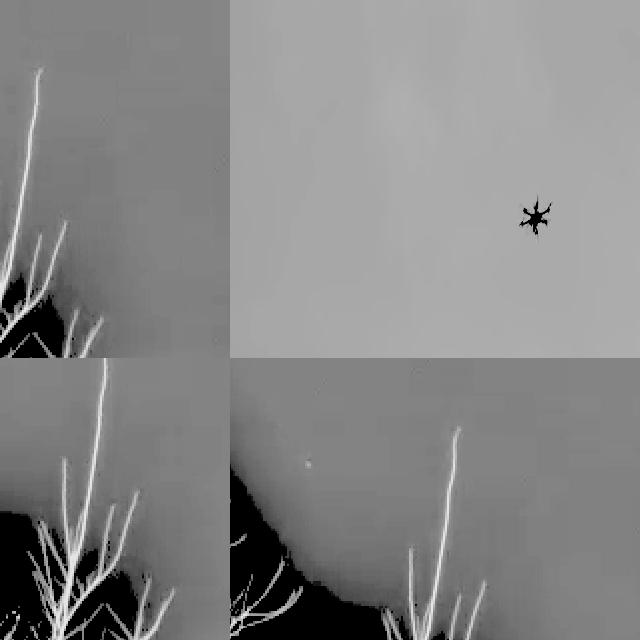0: (299, 453, 323, 481)
drone: (517, 196, 554, 239)
